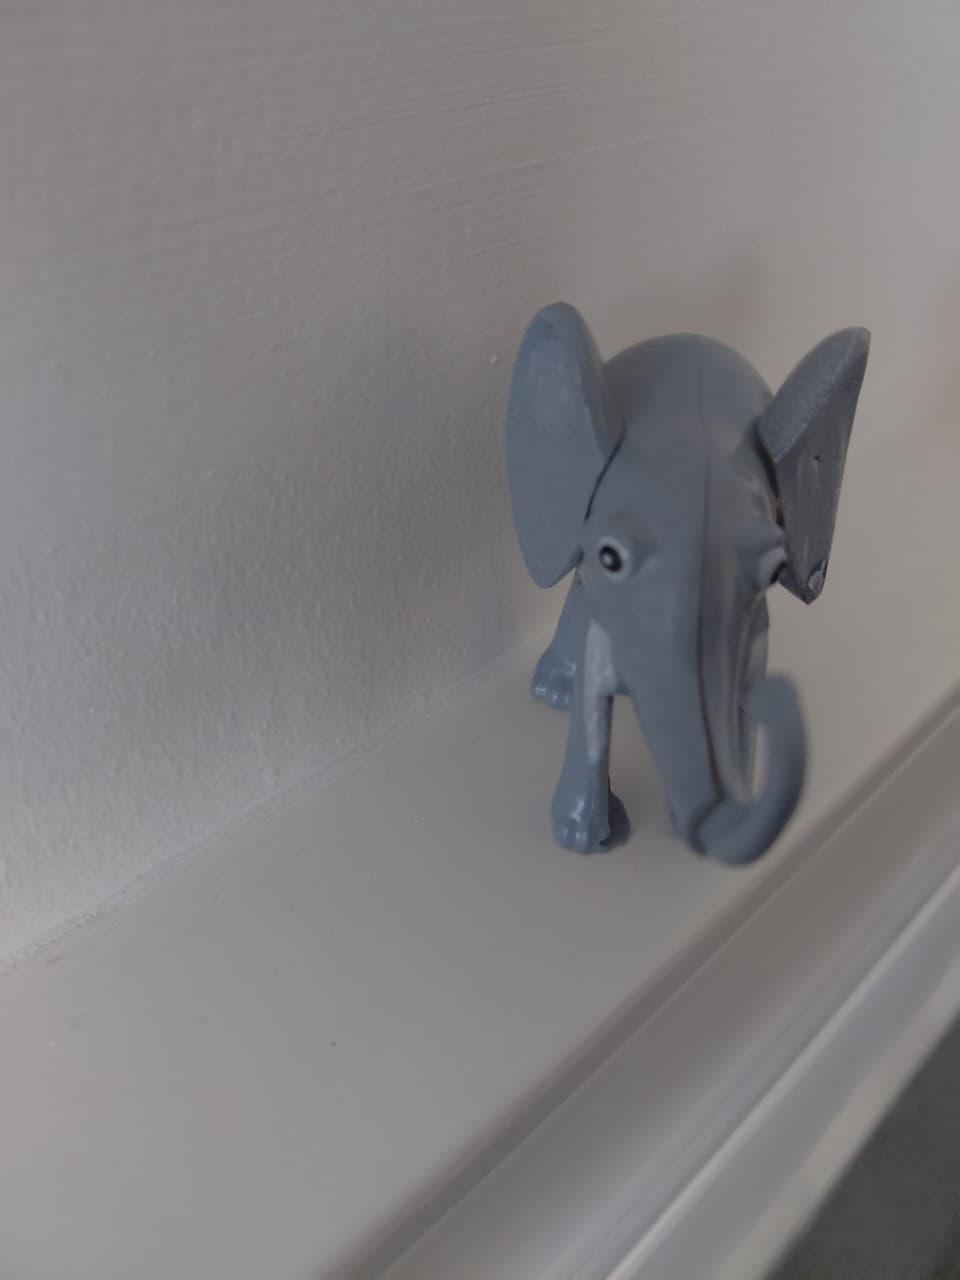elephant: (453, 211, 936, 921)
